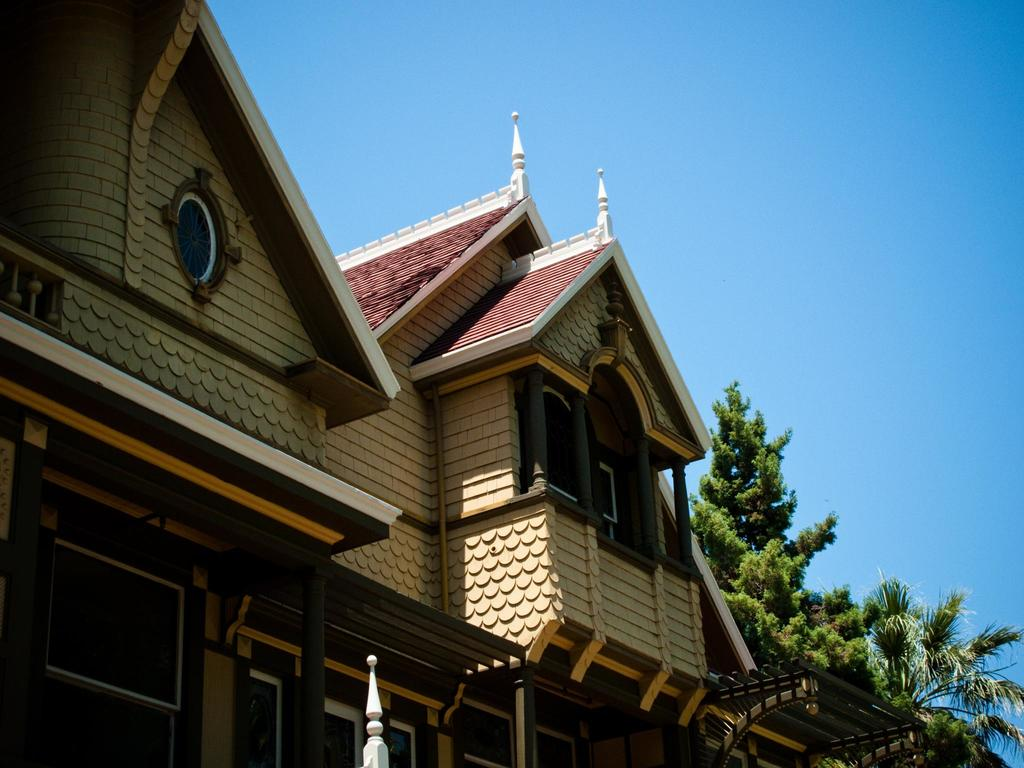Tree: (688, 380, 884, 710), (815, 564, 1023, 767)
